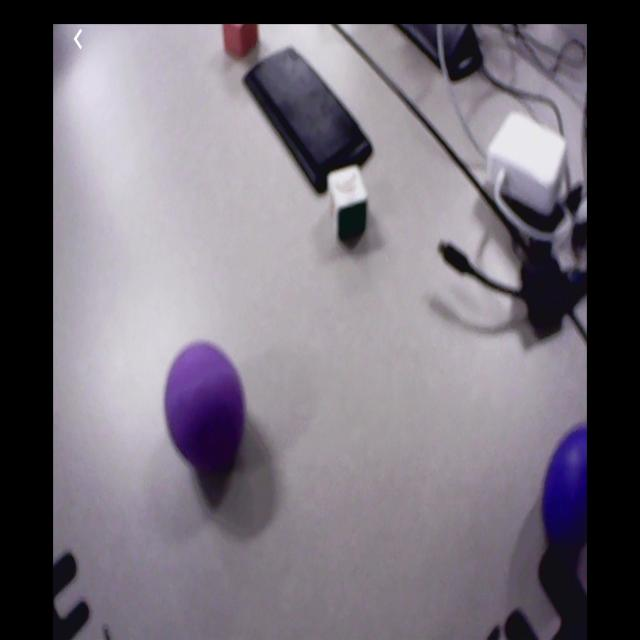ball: (166, 340, 246, 475), (543, 425, 588, 559)
